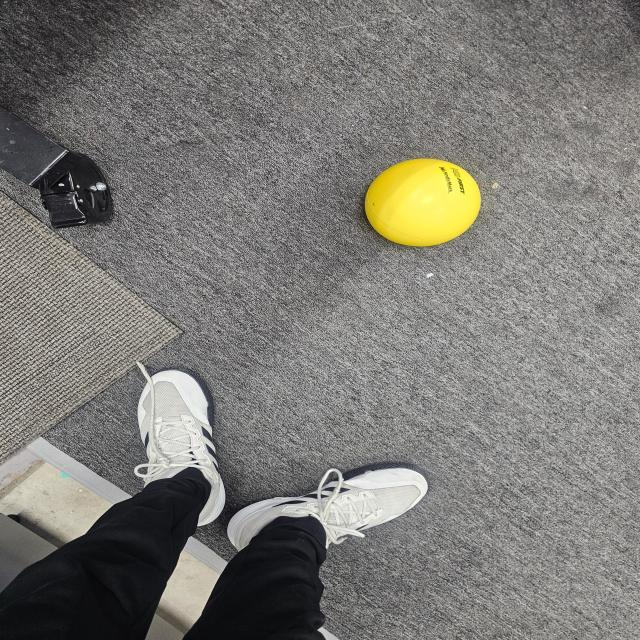Fuel: (358, 149, 488, 251)
